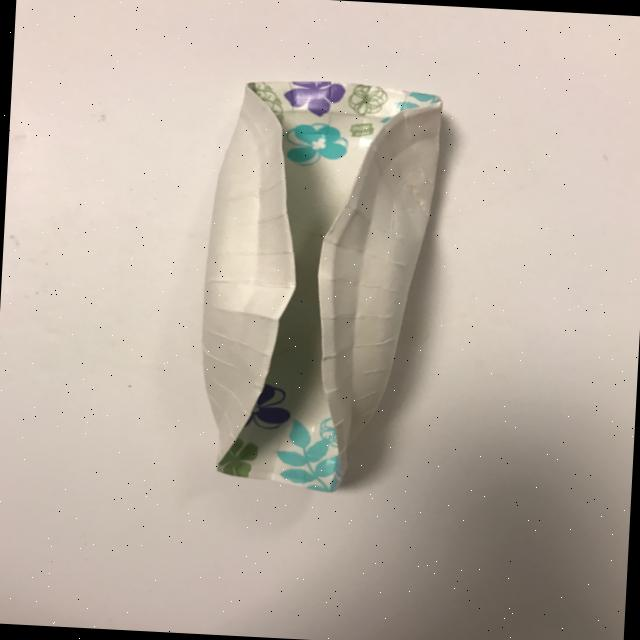paper: (194, 75, 446, 497)
